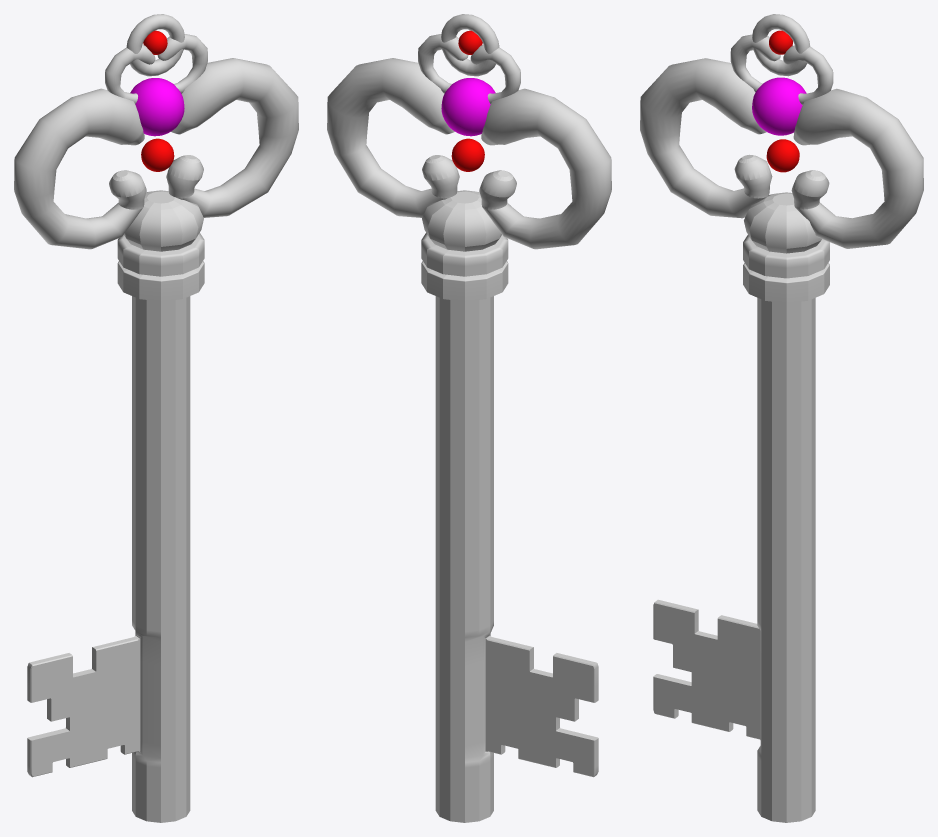
File: key.fbx
3 views of the same model, side by side, from view 1: azimuth 30°, elevation 25°; view 2: azimuth 150°, elevation 25°; view 3: azimuth 330°, elevation 25° (orthographic).
Parts seen in each view (by area): view 1: key; view 2: key; view 3: key.
Boxes of the visible parts, x1,y1,x2,y2 form: key: (14,14,298,822); key: (327,14,611,822); key: (640,14,923,822).
Size of the model in its own units: 11.4 by 30.95 by 3.07.
